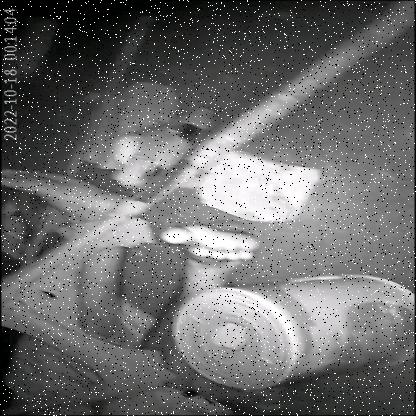leg: (0, 155, 143, 339), (143, 211, 264, 375)
